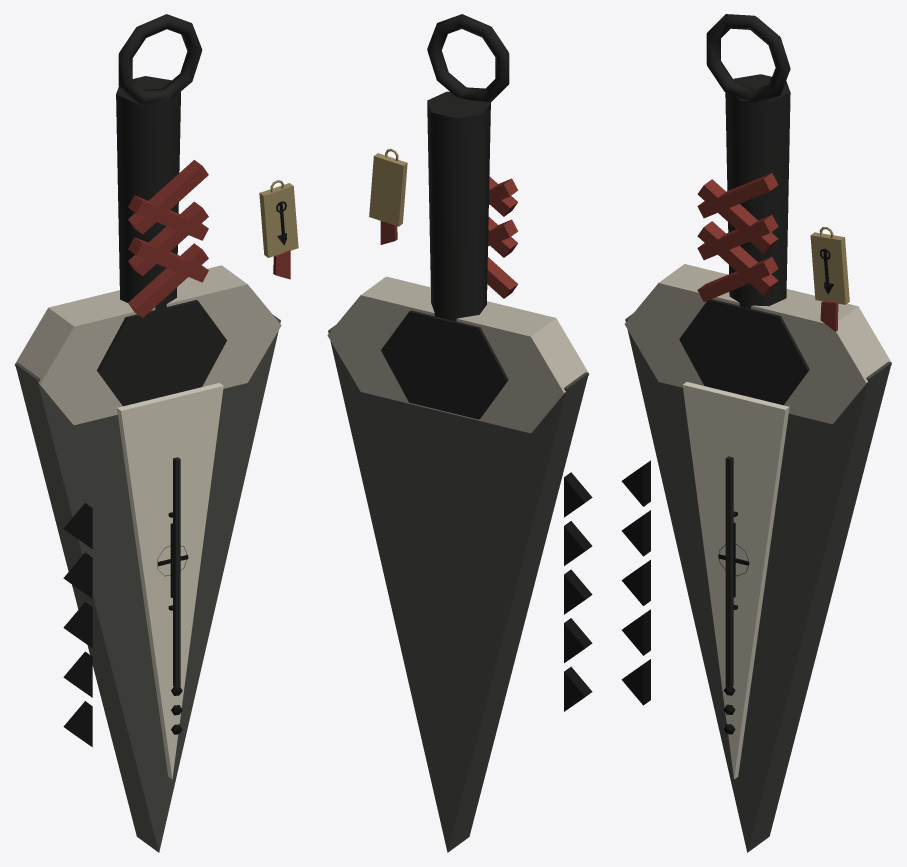
File: fantasy-faceted-wedge-dagger-v1.glb
3 views of the same model, side by side, from view 1: azimuth 30°, elevation 25°; view 2: azimuth 150°, elevation 25°; view 3: azimuth 330°, elevation 25° (orthographic). The views are drawn at different scales.
Parts seen in each view (by area): view 1: Wedge Dagger; view 2: Wedge Dagger; view 3: Wedge Dagger.
Part boxes in pixels (x1,y1,x2,y2): Wedge Dagger: [14, 14, 298, 852]; Wedge Dagger: [327, 14, 592, 852]; Wedge Dagger: [621, 14, 891, 852].
Size of the model in its own units: 1.51 by 4.97 by 0.5591.
